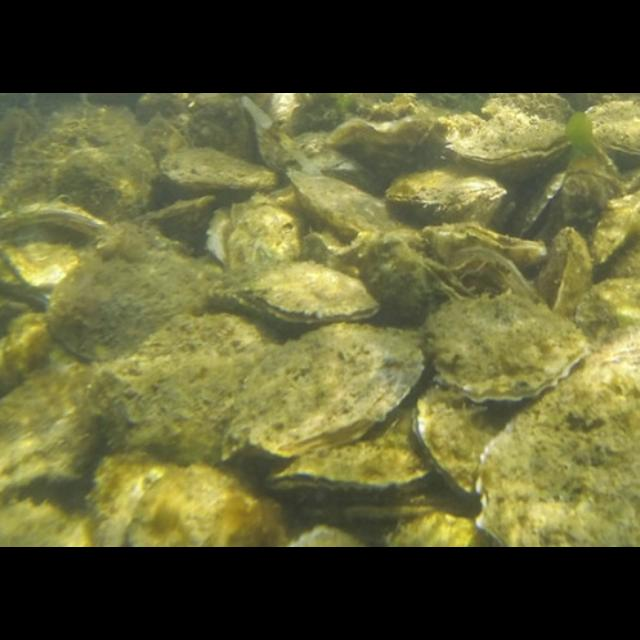Oyster-Closed: (474, 332, 639, 546), (86, 313, 283, 466), (223, 323, 425, 459), (48, 222, 226, 360), (429, 296, 591, 402), (0, 345, 114, 494), (296, 228, 445, 326), (412, 381, 531, 500), (132, 464, 287, 546), (215, 261, 382, 321), (288, 168, 410, 241), (52, 146, 158, 228), (96, 454, 184, 546), (221, 190, 311, 275), (386, 162, 505, 226), (328, 115, 438, 179), (561, 172, 633, 262), (426, 222, 550, 269), (133, 194, 223, 251), (0, 315, 61, 398), (573, 278, 639, 351), (161, 149, 275, 190), (185, 101, 261, 160), (0, 501, 92, 546), (592, 193, 639, 264), (389, 511, 482, 546), (584, 100, 639, 156), (486, 93, 574, 126), (296, 132, 362, 173), (143, 119, 188, 161), (287, 526, 370, 546)
Oyster-Open: (266, 401, 437, 492), (444, 109, 569, 180), (537, 230, 593, 318), (505, 170, 566, 247), (420, 258, 477, 302), (446, 250, 490, 282)
